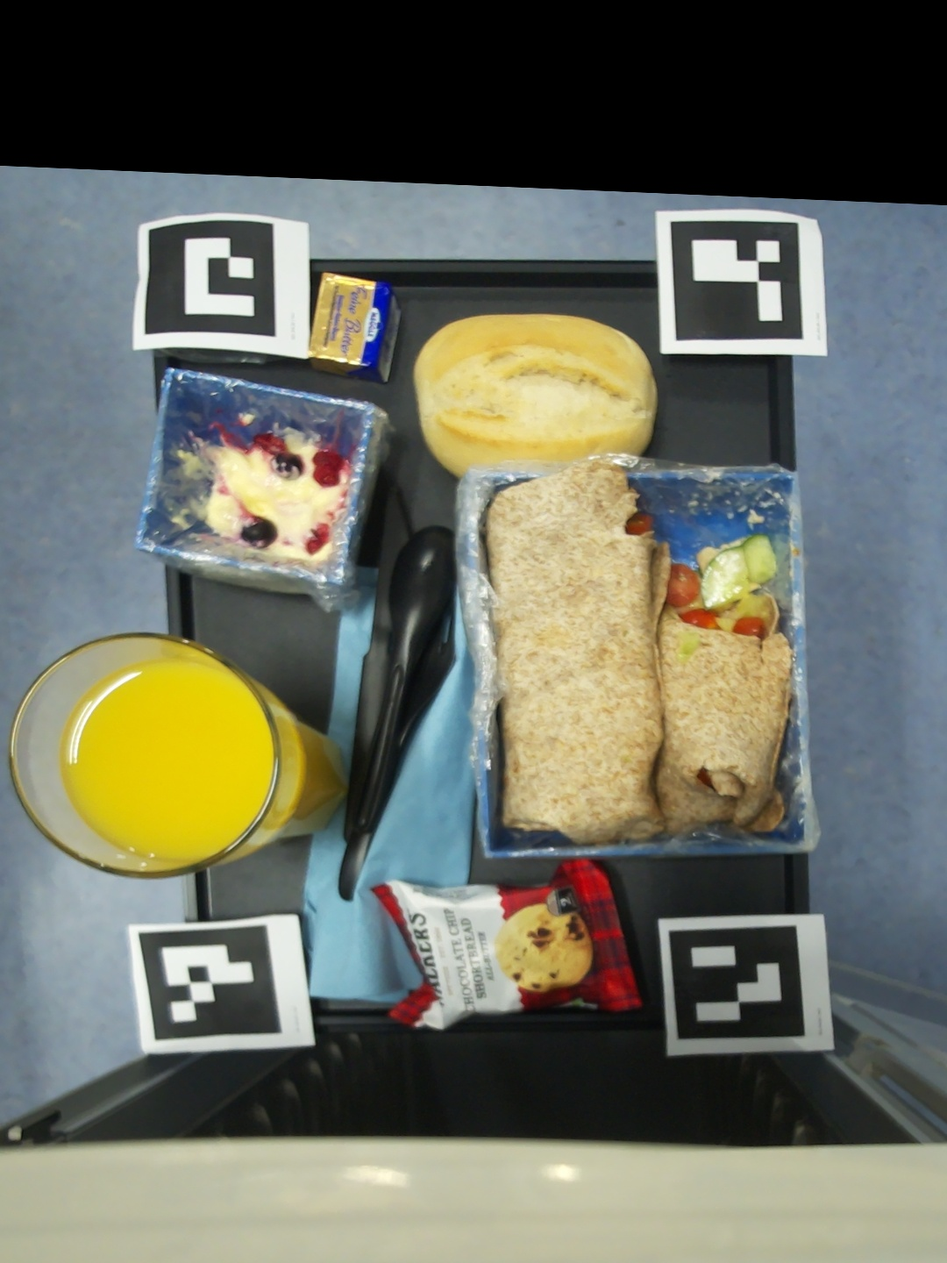bread_roll: (413, 314, 657, 479)
butter: (308, 272, 402, 382)
cookie: (371, 858, 642, 1032)
orange_juice_bottle: (4, 632, 342, 880)
vanilla_pudding_with_fruits: (203, 419, 349, 561)
wrap_half_1: (485, 460, 670, 843)
wrap_half_2: (656, 534, 793, 835)
